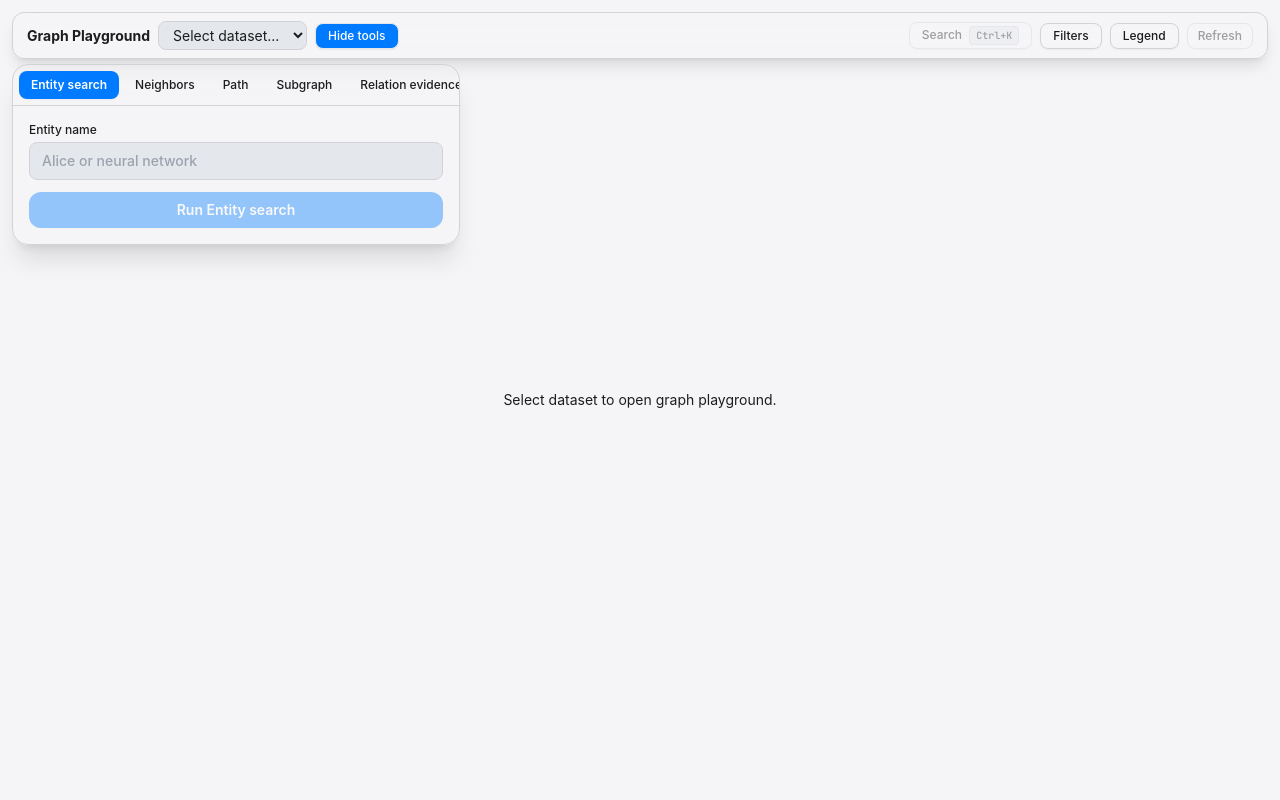
Scenario: GraphPage › searches entities and sends structured parameters
Select "Research" in the dropdown named "Dataset": (232, 36) [158,21,307,50]
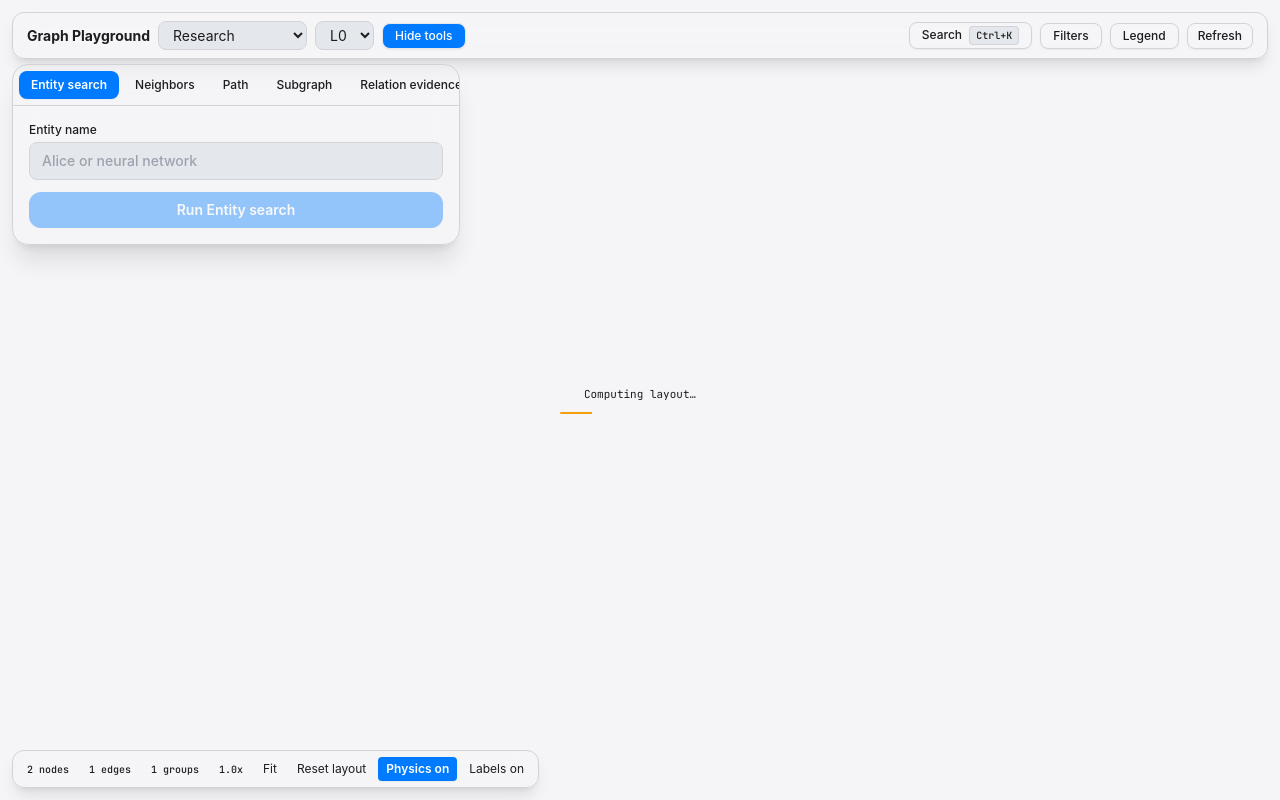
Result: the text "2 nodes" is shown at [27,762,69,776]
In the field labelled "Entity name": (236, 161) [29,142,443,180], type "Alice"
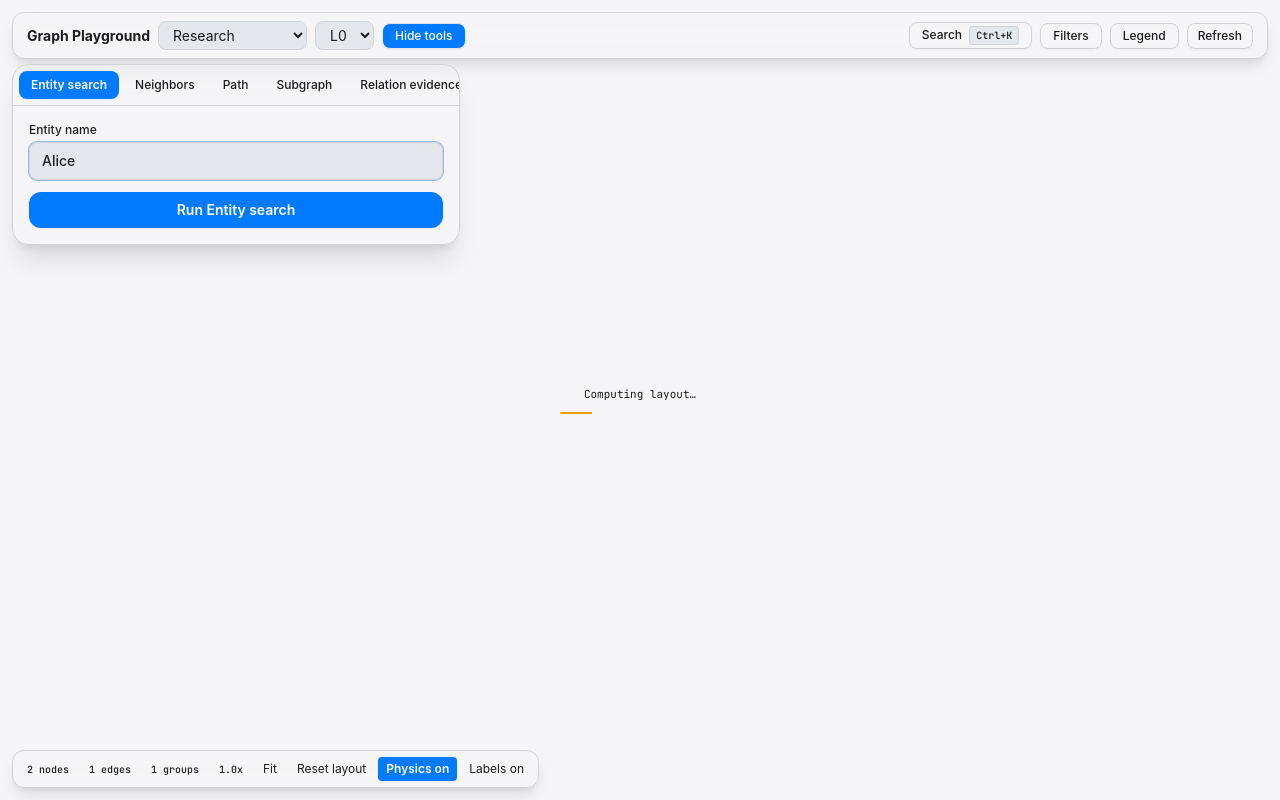
Click the button "Run Entity search": (236, 210) [29,192,443,228]
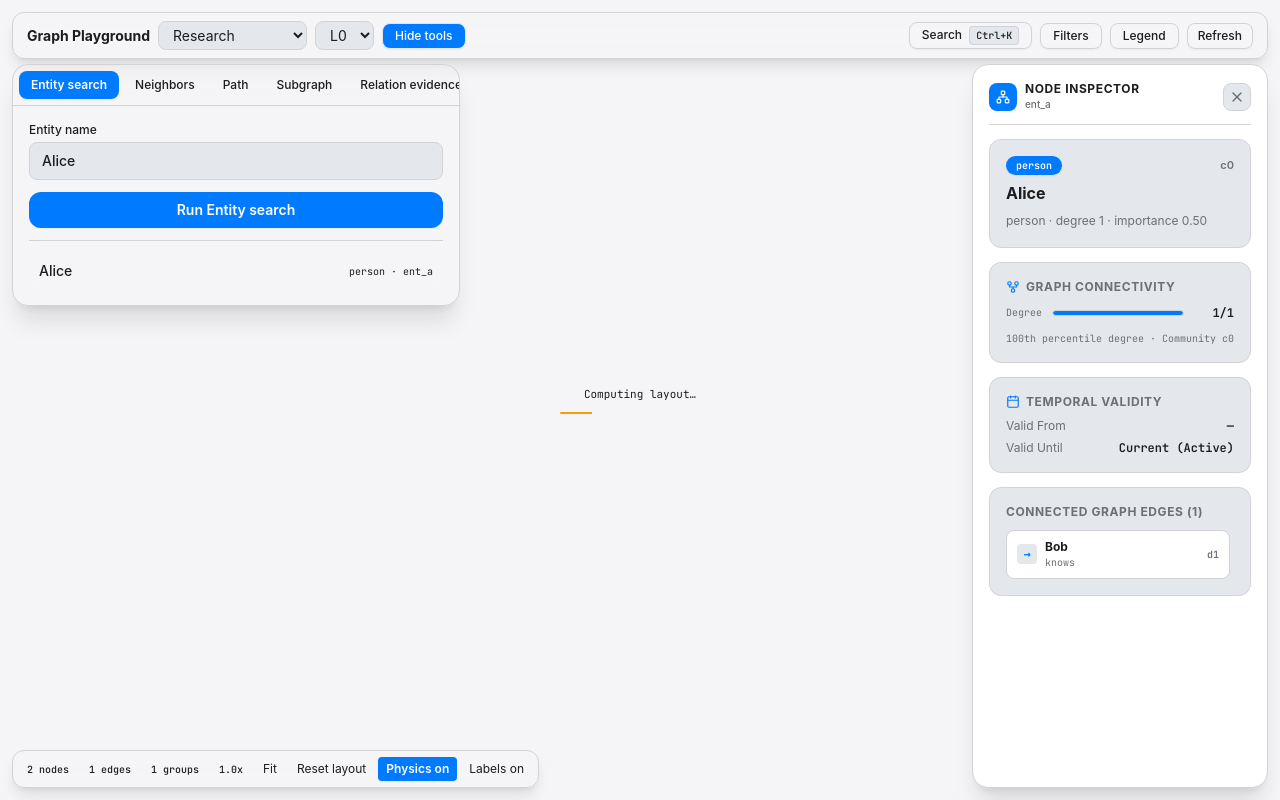
Result: the text "2 nodes" is shown at [27,762,69,776]
Result: the text "1 edges" is shown at [89,762,131,776]
Result: the text "person · ent_a" is shown at [349,264,433,278]
